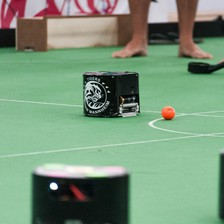ball: (159, 103, 176, 121)
robot: (28, 161, 133, 224), (14, 11, 132, 50), (80, 68, 143, 119)
